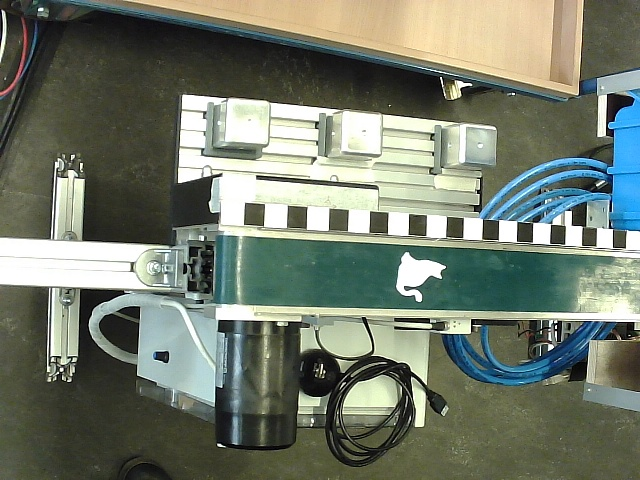cat: (395, 252, 446, 303)
